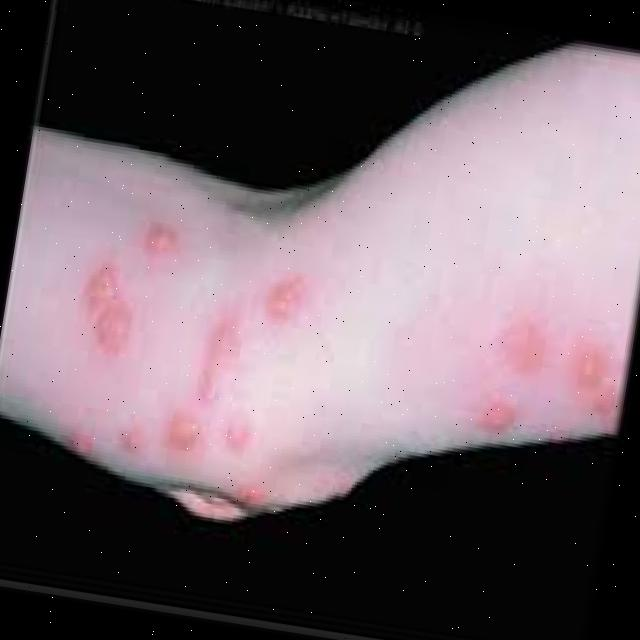kan emici bocekler: (196, 316, 248, 402), (495, 309, 555, 379), (87, 287, 142, 357), (259, 266, 313, 326), (566, 339, 610, 406), (473, 392, 524, 445), (161, 409, 210, 458), (220, 408, 258, 460), (146, 218, 183, 263), (120, 416, 153, 459), (92, 264, 121, 312)
